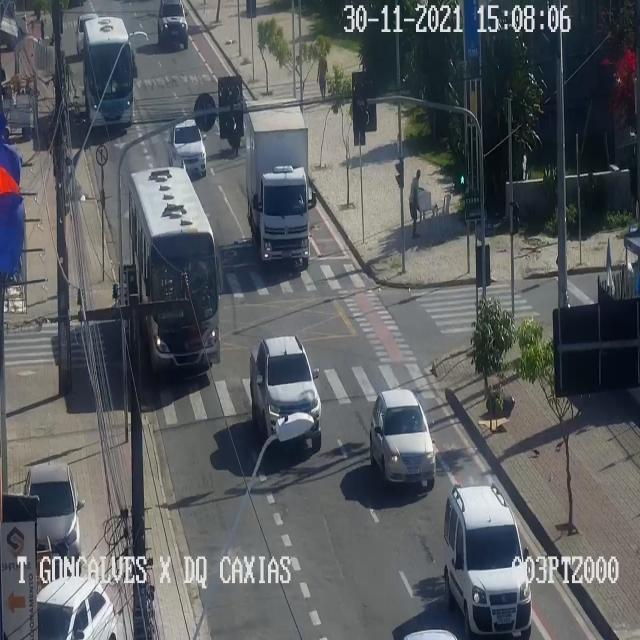Bus: (129, 167, 219, 371), (83, 17, 133, 124)
Car: (443, 486, 531, 638), (250, 336, 320, 449), (369, 389, 435, 487), (24, 463, 80, 573), (36, 576, 116, 639), (168, 118, 206, 175), (160, 4, 188, 48), (76, 12, 98, 52)
Motorcycle: (228, 112, 240, 156)
Truck: (246, 97, 310, 266)
